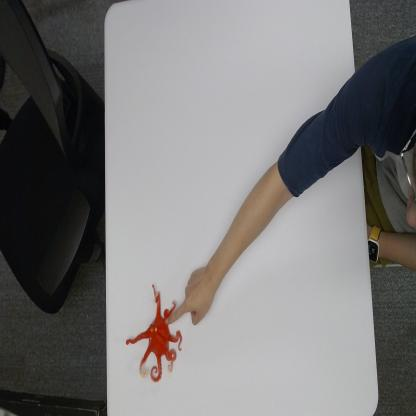Arm: (213, 66, 358, 283)
Hand: (164, 262, 214, 328)
Octopus: (125, 281, 183, 385)
